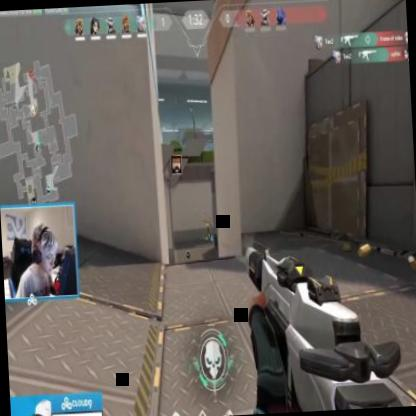enemy: (206, 219, 210, 238)
enemy_head: (207, 218, 208, 224)
